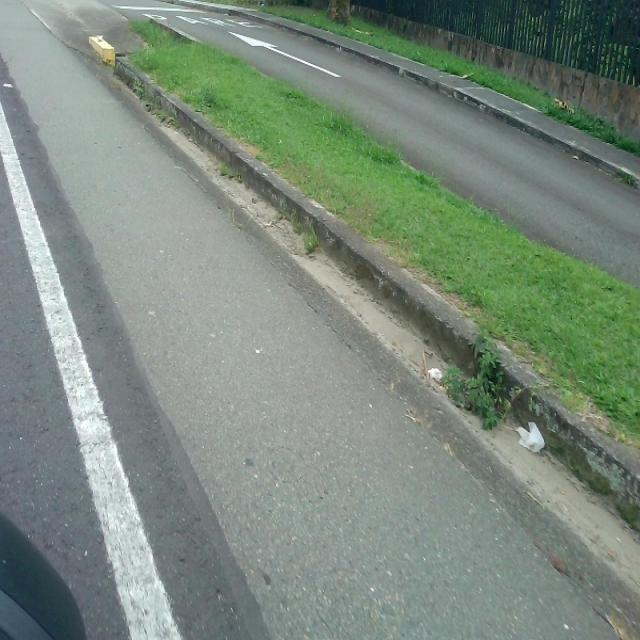DITCH: (1, 3, 638, 638), (2, 3, 638, 638)
